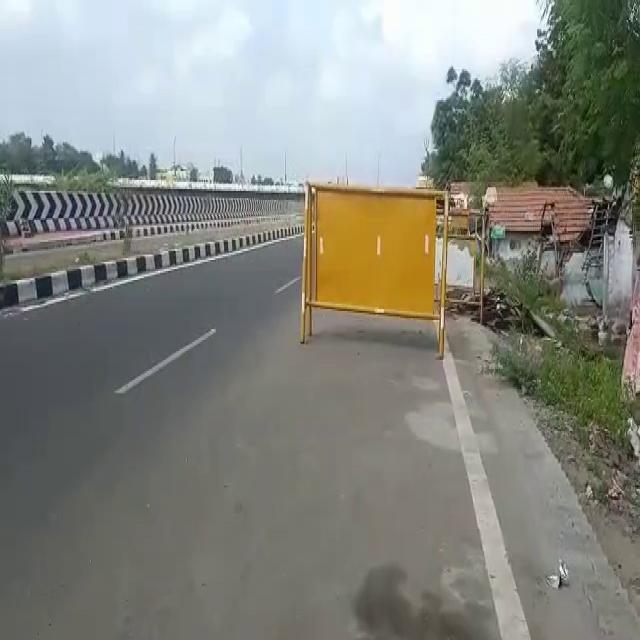fallen_object: (285, 152, 461, 372)
